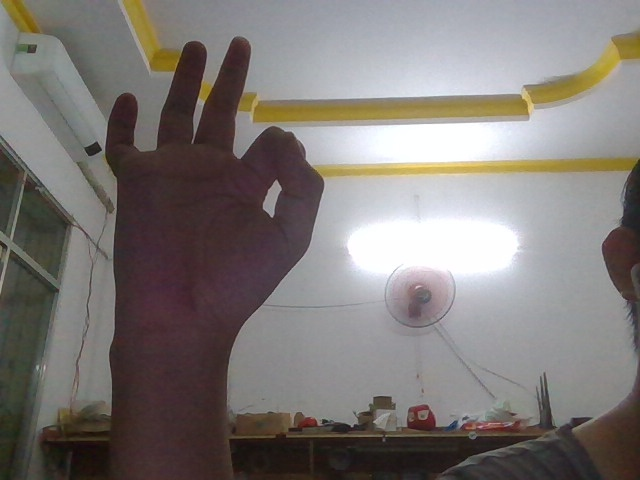okay: (72, 20, 340, 359)
